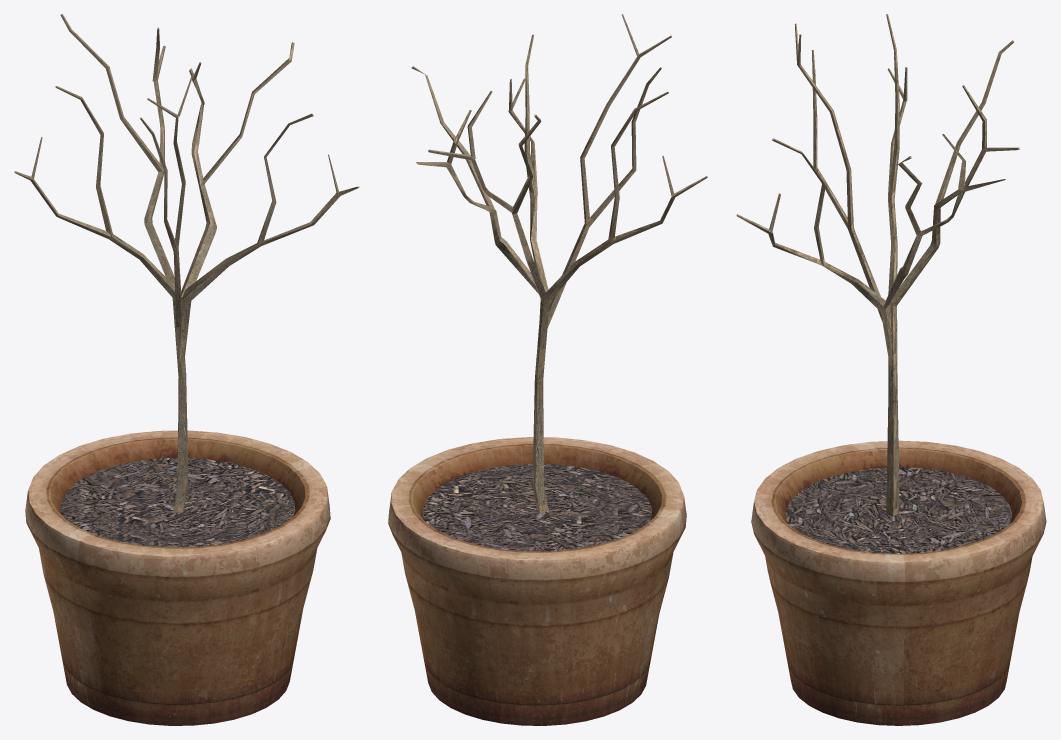
Rendered from MA_Tree_02.FBX.
3 views of the same model, side by side, from view 1: azimuth 30°, elevation 25°; view 2: azimuth 150°, elevation 25°; view 3: azimuth 270°, elevation 25° (orthographic). The views are drawn at different scales.
Parts seen in each view (by area): view 1: MA_Tree_02; view 2: MA_Tree_02; view 3: MA_Tree_02.
Boxes of the visible parts, x1,y1,x2,y2 form: MA_Tree_02: [14, 14, 359, 725]; MA_Tree_02: [388, 14, 707, 725]; MA_Tree_02: [736, 14, 1046, 725].
Bounding box in the file's own units: 129 × 266 × 119.
